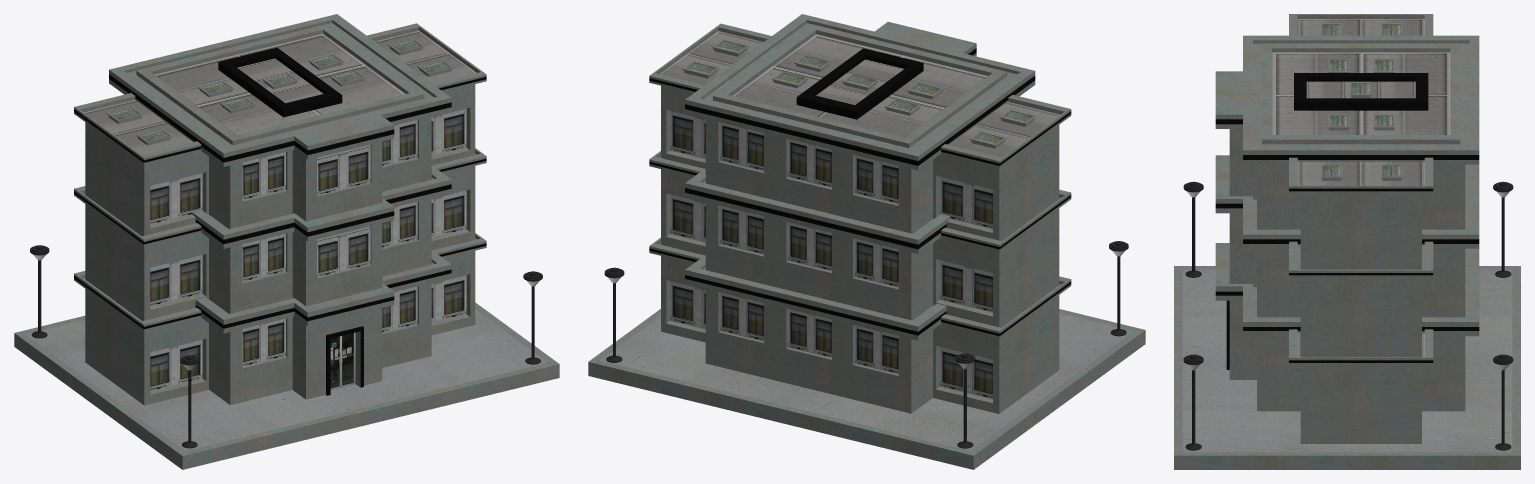
Rendered from fbxBuilding.fbx.
3 renders of one model, left to right at view 1: azimuth 30°, elevation 25°; view 2: azimuth 150°, elevation 25°; view 3: azimuth 270°, elevation 25°, orthographic. The views are drawn at different scales.
Parts seen in each view (by area): view 1: structure, floor, lamp20, lamp23, lamp21; view 2: structure, floor, lamp23, lamp20; view 3: structure, floor, lamp21, lamp22, lamp23, lamp20.
Boxes of the visible parts, <box> form: structure: <box>74,14,486,405</box>; floor: <box>14,302,559,469</box>; lamp20: <box>180,355,199,448</box>; lamp23: <box>30,245,49,338</box>; lamp21: <box>523,271,542,364</box>; structure: <box>649,14,1071,413</box>; floor: <box>588,309,1145,469</box>; lamp23: <box>955,353,975,448</box>; lamp20: <box>1109,241,1128,336</box>; structure: <box>1215,14,1479,443</box>; floor: <box>1174,266,1520,469</box>; lamp21: <box>1183,354,1203,450</box>; lamp22: <box>1493,354,1513,450</box>; lamp23: <box>1493,181,1513,277</box>; lamp20: <box>1183,181,1203,277</box>.
Size of the model in its own units: 11.99 by 8.47 by 9.27.
9 materials, 6 textured.
